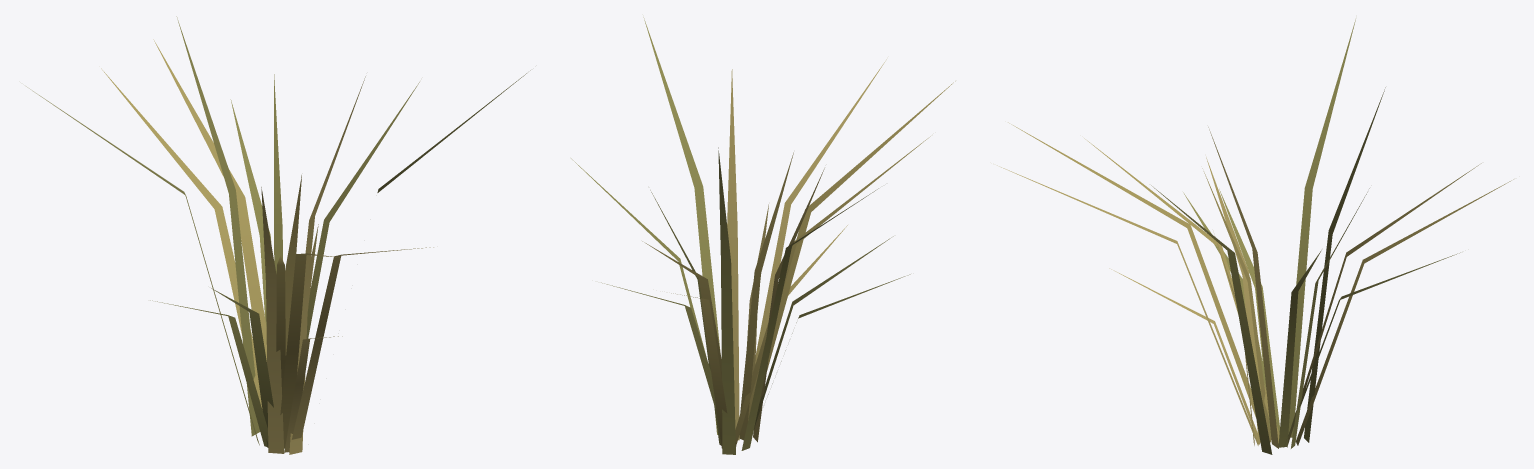
The model's file is grass_dry_3.fbx.
3 views of the same model, side by side, from view 1: azimuth 30°, elevation 25°; view 2: azimuth 150°, elevation 25°; view 3: azimuth 270°, elevation 25° (orthographic). The views are drawn at different scales.
Visible parts, largest first — view 1: grass_dry_3; view 2: grass_dry_3; view 3: grass_dry_3.
Boxes of the visible parts, x1=… form: grass_dry_3: x1=26, y1=16, x2=530, y2=454; grass_dry_3: x1=571, y1=17, x2=955, y2=454; grass_dry_3: x1=997, y1=19, x2=1513, y2=454.
Size of the model in its own units: 0.5957 by 0.5554 by 0.7805.
